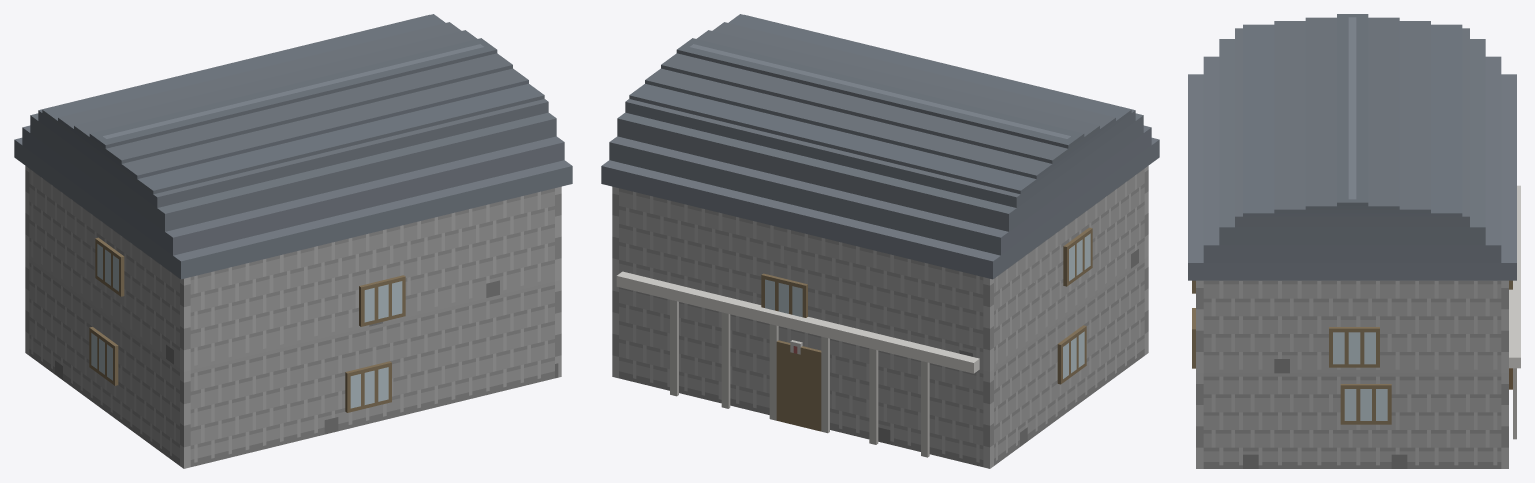
Rendered from escuela_01.glb.
The picture shows the model from 3 angles, left to right: view 1: azimuth 30°, elevation 25°; view 2: azimuth 150°, elevation 25°; view 3: azimuth 270°, elevation 25°; orthographic projection.
Parts seen in each view (by area): view 1: escuela_01; view 2: escuela_01; view 3: escuela_01.
Boxes of the visible parts, <box> form: escuela_01: <box>14,14,572,468</box>; escuela_01: <box>601,14,1159,468</box>; escuela_01: <box>1188,14,1520,468</box>.
Size of the model in its own units: 11.4 by 7.6 by 8.5.
